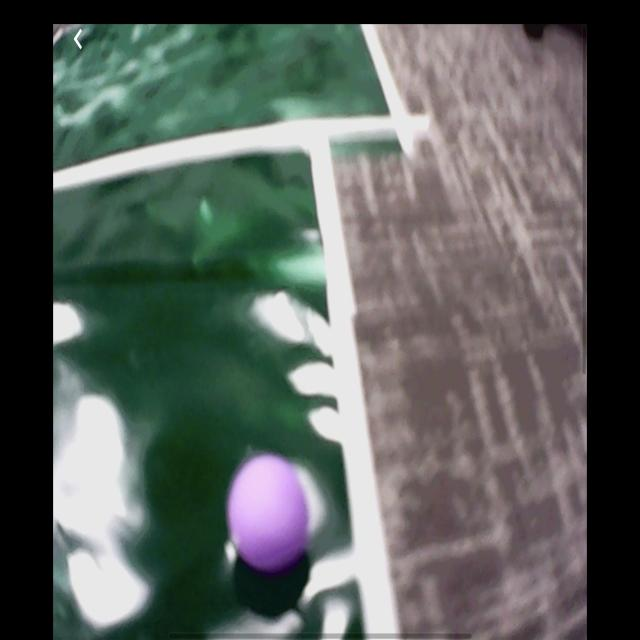ball: (226, 453, 311, 575)
